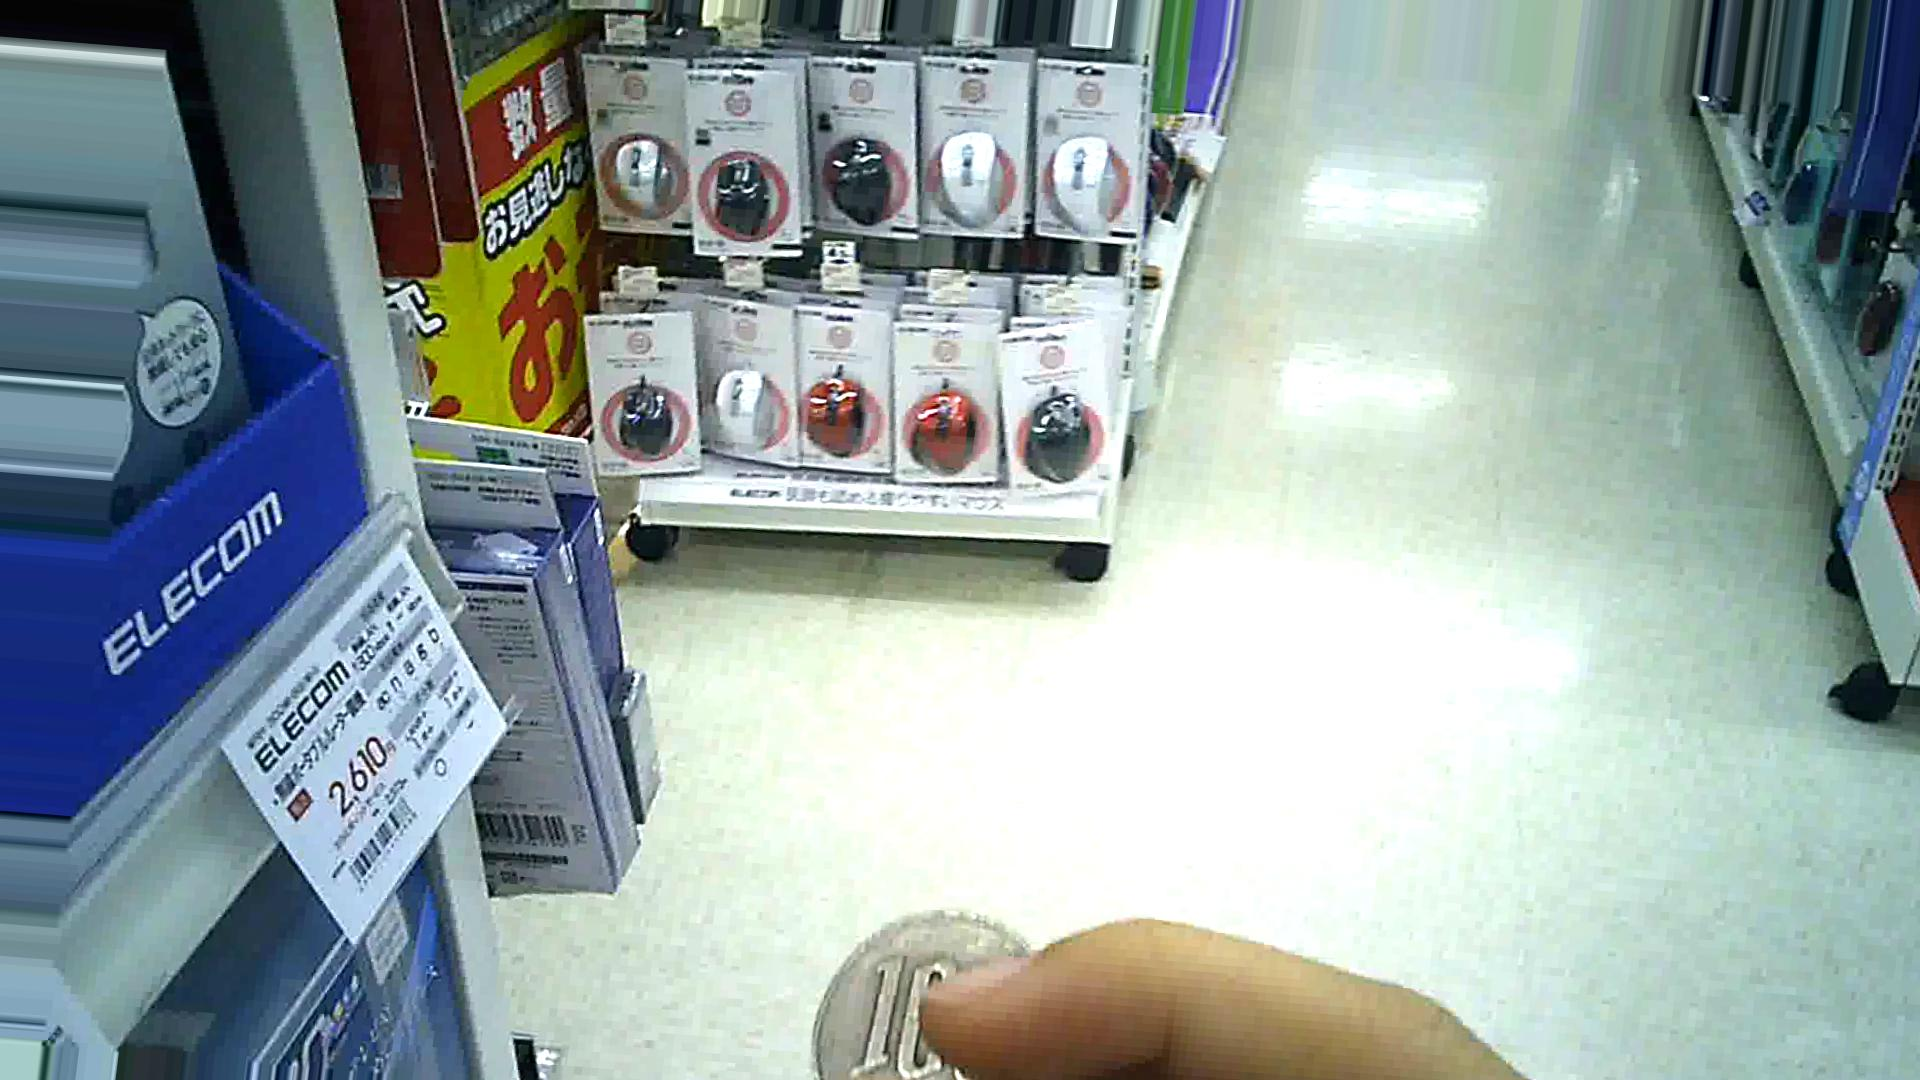100 Yen: (804, 914, 1030, 1069)
